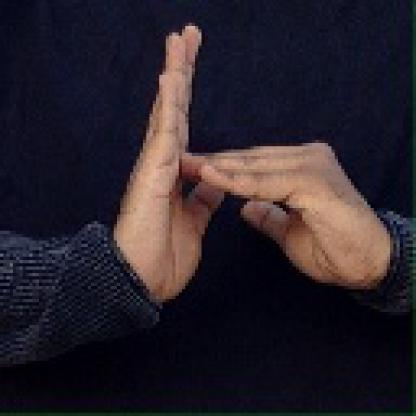Z: (123, 18, 362, 318)
